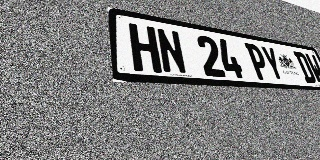2: (195, 34, 226, 77)
4: (215, 38, 245, 78)
D: (293, 51, 317, 83)
H: (128, 23, 162, 73)
N: (155, 28, 188, 75)
P: (244, 43, 272, 80)
W: (304, 53, 320, 84)
Y: (259, 45, 286, 81)
